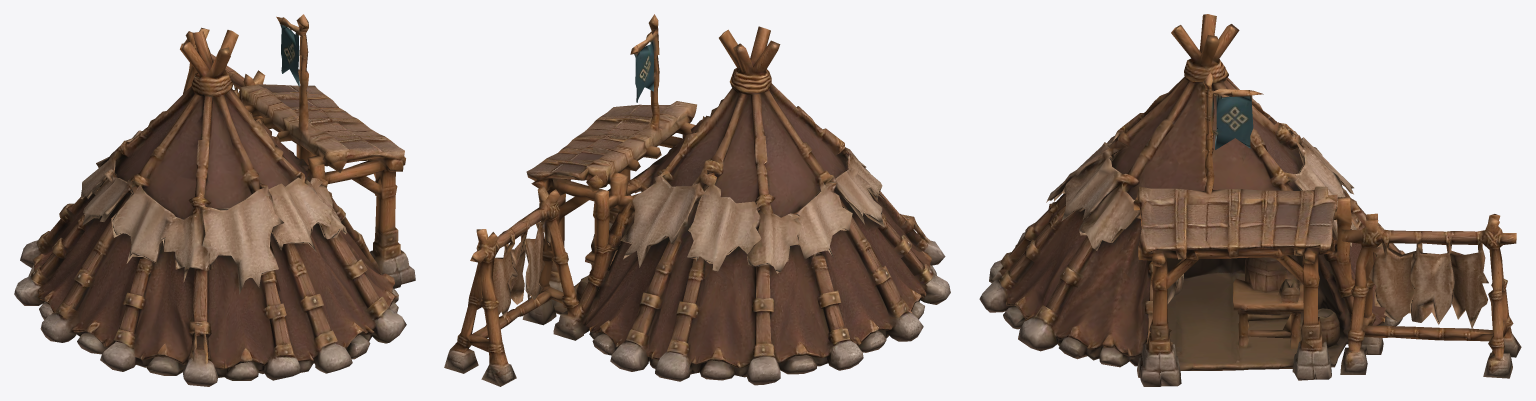
Rendered from avci-sv5.glb.
The picture shows the model from 3 angles, left to right: view 1: azimuth 30°, elevation 25°; view 2: azimuth 150°, elevation 25°; view 3: azimuth 270°, elevation 25°; orthographic projection. The views are drawn at different scales.
Visible parts, largest first — view 1: tripo_node_cd76eb65-8a08-417b-a0f8-c145070317ba; view 2: tripo_node_cd76eb65-8a08-417b-a0f8-c145070317ba; view 3: tripo_node_cd76eb65-8a08-417b-a0f8-c145070317ba.
Boxes of the visible parts, bbox=[...] form: tripo_node_cd76eb65-8a08-417b-a0f8-c145070317ba: bbox=[14, 14, 415, 386]; tripo_node_cd76eb65-8a08-417b-a0f8-c145070317ba: bbox=[444, 14, 950, 386]; tripo_node_cd76eb65-8a08-417b-a0f8-c145070317ba: bbox=[979, 14, 1521, 386].
Bounding box in the file's own units: 0.7586 × 0.5596 × 1.
Materials: 1 (1 with a texture image).
